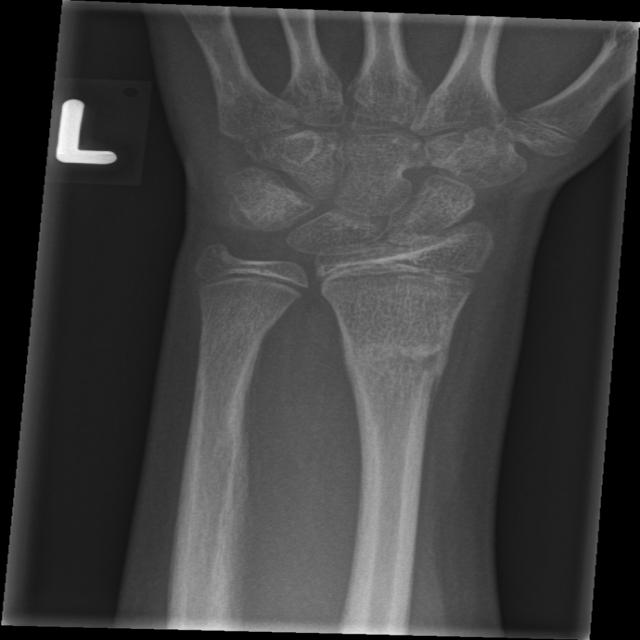radius fracture: (323, 312, 491, 480)
